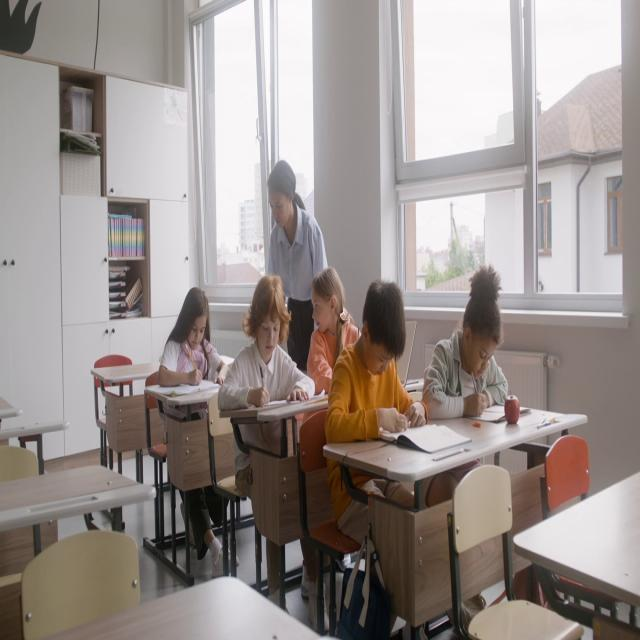turning: (310, 269, 359, 405)
writing: (323, 279, 442, 640), (158, 287, 238, 578), (220, 272, 317, 483), (424, 265, 509, 420)
